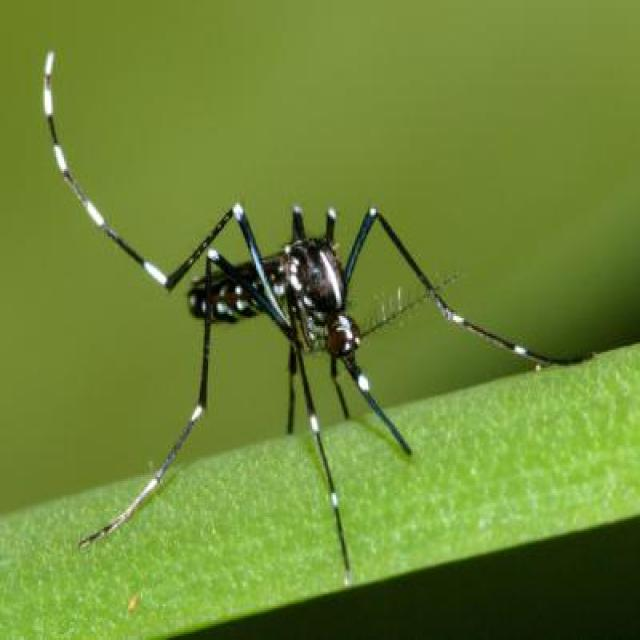antennae: (351, 262, 469, 344)
body: (190, 248, 365, 360)
insect: (33, 43, 590, 570)
legs: (70, 300, 360, 566), (36, 46, 332, 282), (350, 187, 596, 374)
mouthpart: (329, 340, 421, 466)
wings: (188, 248, 290, 288)
